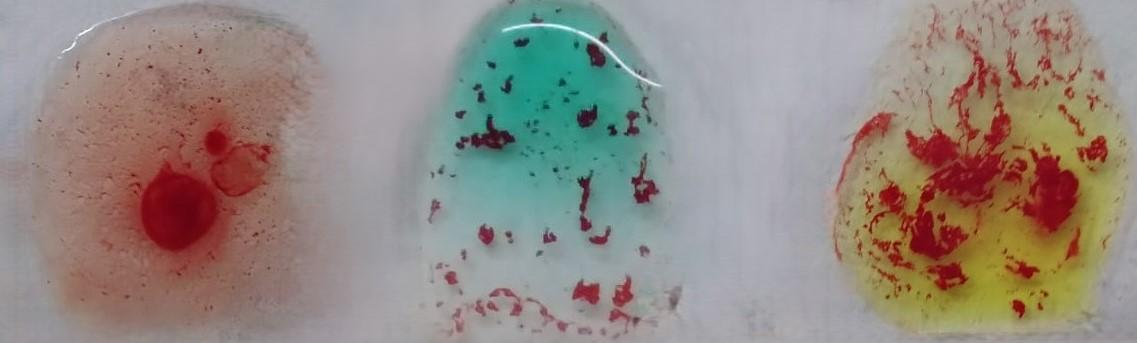A: (434, 1, 663, 343)
B: (839, 5, 1123, 343)
D: (38, 14, 298, 343)
